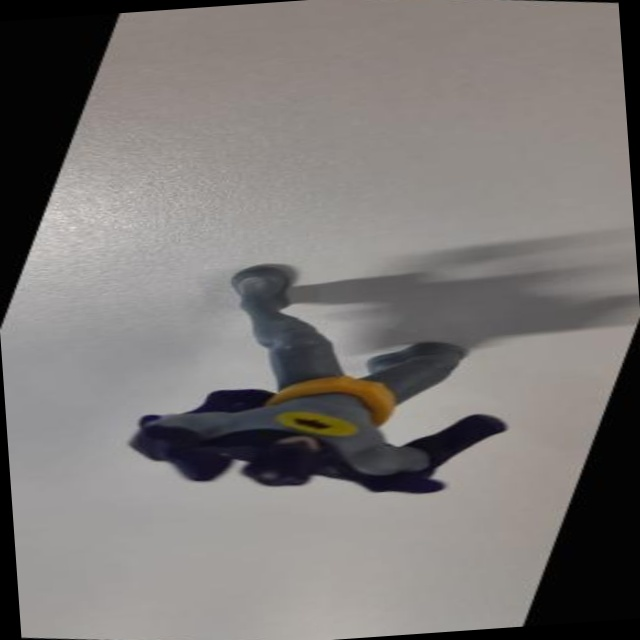Batman: (63, 199, 614, 540)
